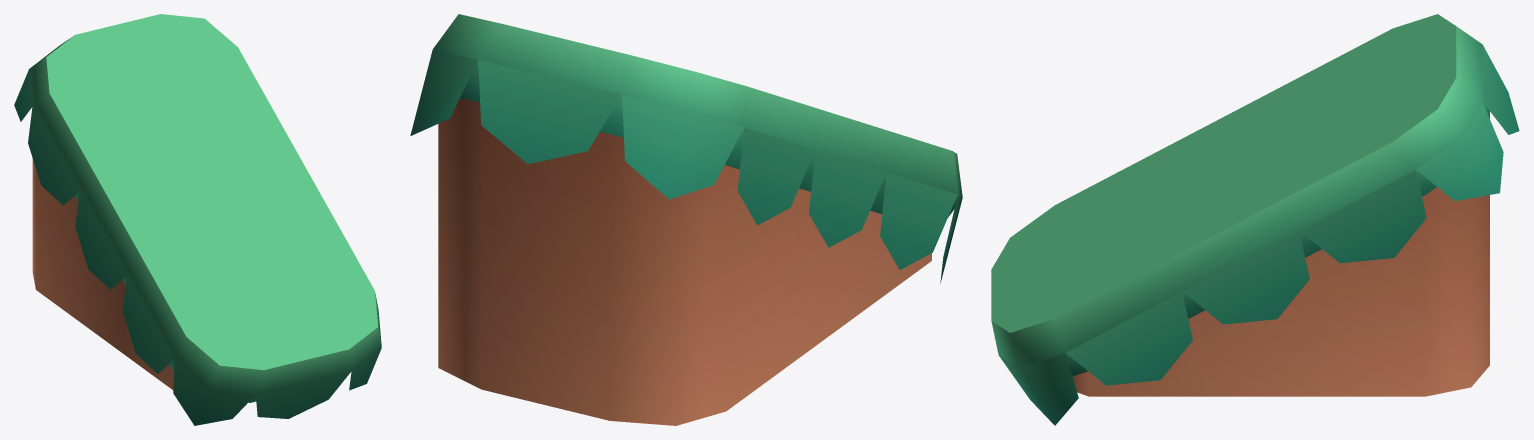
Rendered from kenney-platformer-block-grass-overhang-large-slope-steep-narrow.glb.
3 renders of one model, left to right at view 1: azimuth 30°, elevation 25°; view 2: azimuth 150°, elevation 25°; view 3: azimuth 270°, elevation 25°, orthographic. The views are drawn at different scales.
Visible parts, largest first — view 1: block-grass-overhang-large-slope-steep-narrow; view 2: block-grass-overhang-large-slope-steep-narrow; view 3: block-grass-overhang-large-slope-steep-narrow.
Part boxes in pixels (box(x1,y1,x2,y2)): block-grass-overhang-large-slope-steep-narrow: box(14, 14, 381, 425); block-grass-overhang-large-slope-steep-narrow: box(410, 14, 962, 425); block-grass-overhang-large-slope-steep-narrow: box(991, 14, 1519, 425).
Bounding box in the file's own units: 1.08 × 1.37 × 1.97.
1 material, 1 textured.
